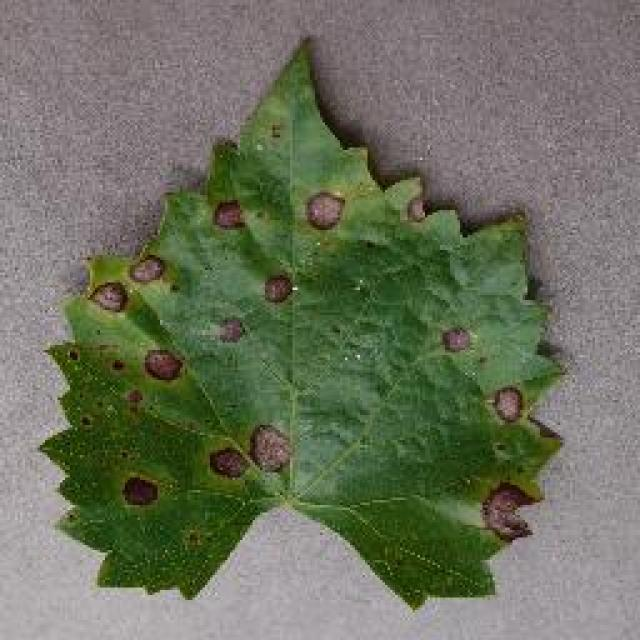Grape___Black_rot: (21, 32, 575, 625)
